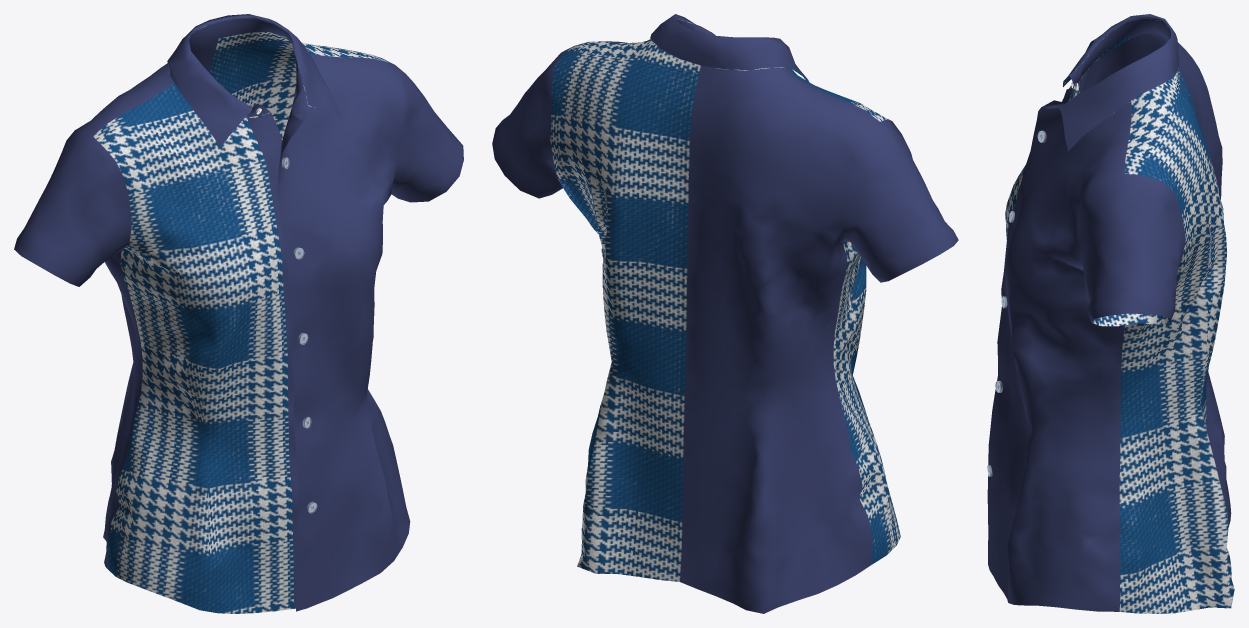
The model's file is color_blocked_shirt.glb.
3 renders of one model, left to right at view 1: azimuth 30°, elevation 25°; view 2: azimuth 150°, elevation 25°; view 3: azimuth 270°, elevation 25°, orthographic. The views are drawn at different scales.
Visible parts, largest first — view 1: Object_3, Object_2; view 2: Object_2, Object_3; view 3: Object_2, Object_3, Object_4.
Boxes of the visible parts, x1,y1,x2,y2 form: Object_3: [93, 19, 389, 613]; Object_2: [14, 14, 463, 611]; Object_2: [492, 14, 958, 613]; Object_3: [550, 19, 900, 581]; Object_2: [987, 14, 1231, 611]; Object_3: [1005, 18, 1234, 613]; Object_4: [987, 130, 1046, 476].
Size of the model in its own units: 550 by 626 by 260.
Materials: 4 (3 with a texture image).
